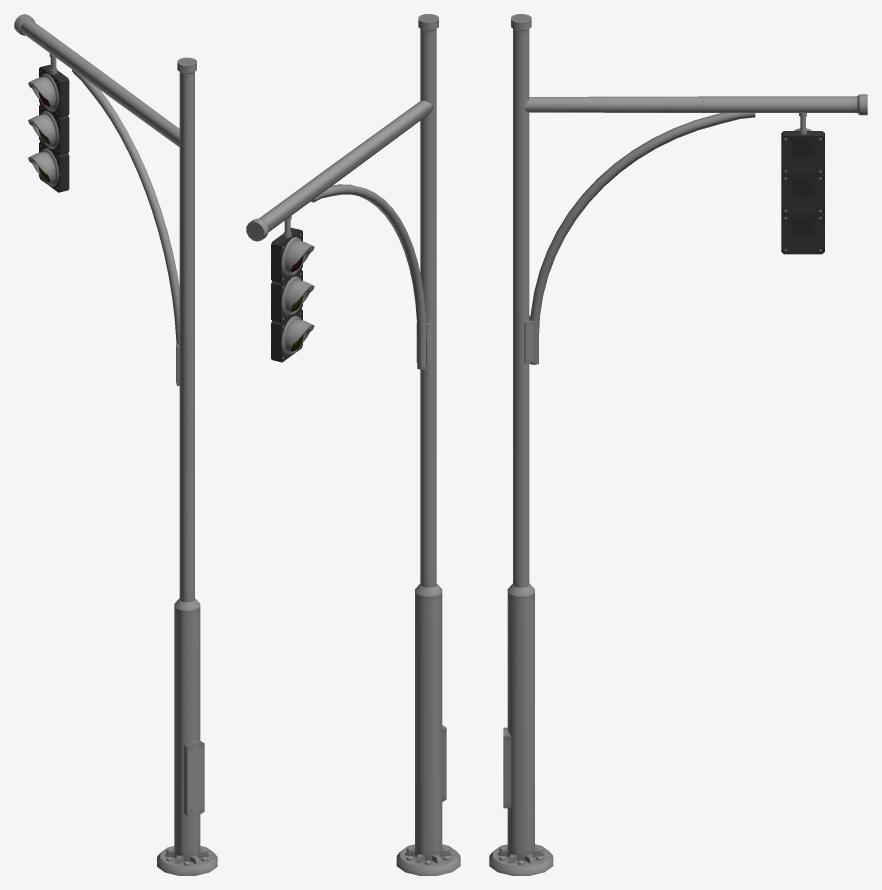
The model's file is TrafficLight_1Lane.fbx.
3 views of the same model, side by side, from view 1: azimuth 30°, elevation 25°; view 2: azimuth 150°, elevation 25°; view 3: azimuth 270°, elevation 25° (orthographic). The views are drawn at different scales.
Visible parts, largest first — view 1: TrafficLight_1Lane_LOD0; view 2: TrafficLight_1Lane_LOD0; view 3: TrafficLight_1Lane_LOD0.
Part boxes in pixels (left/top/right/bottom): TrafficLight_1Lane_LOD0: left=14, top=14, right=217, bottom=875; TrafficLight_1Lane_LOD0: left=246, top=14, right=460, bottom=875; TrafficLight_1Lane_LOD0: left=489, top=14, right=867, bottom=875.
Size of what is drawn, in the model's own units: 46.17 by 671 by 273.
